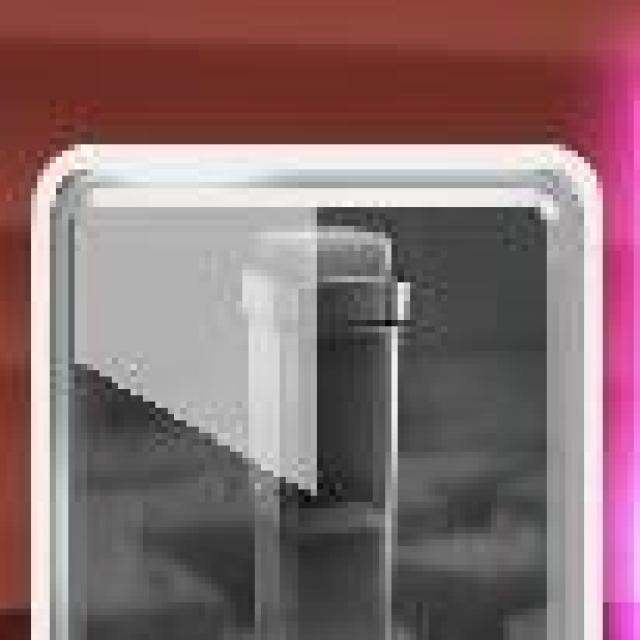Earthquake: (32, 146, 599, 640)
